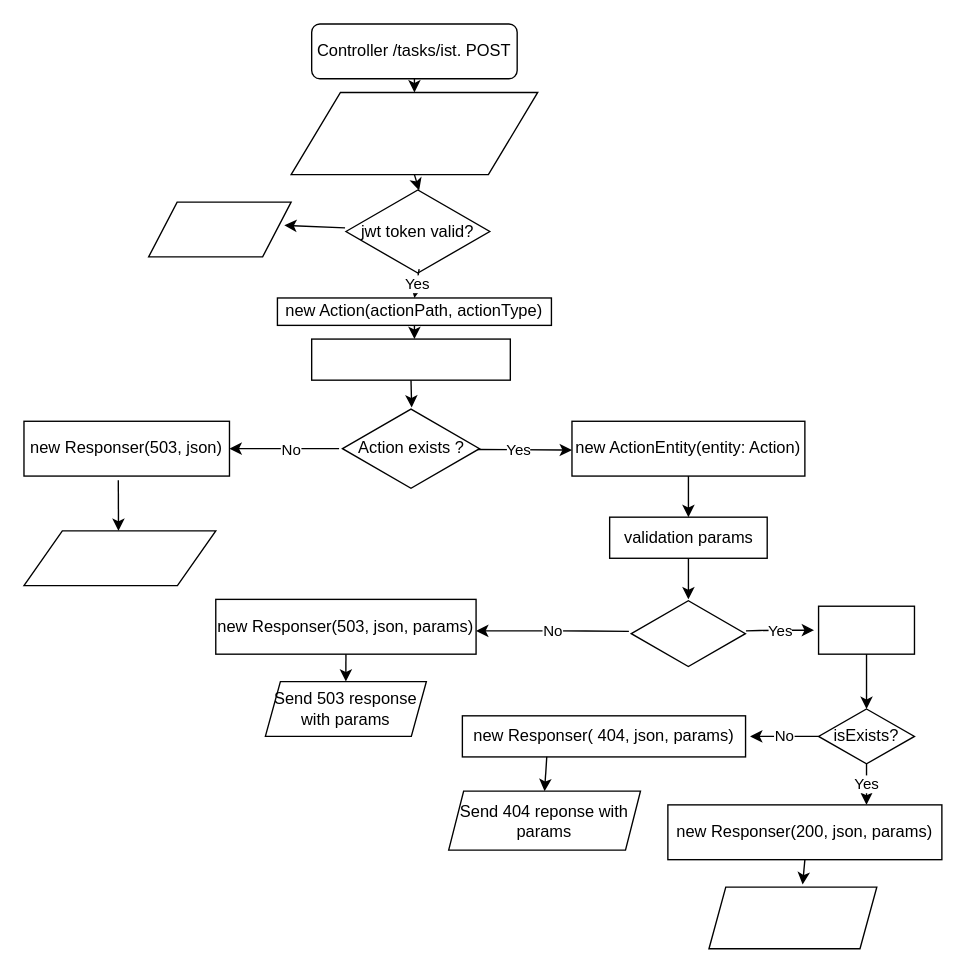
This 966x973 diagram has some shape labels left out. Each missing label, with the box of its shape:
(body) ActionPath: string ActionType: string params: object: (290, 91, 538, 175)
getActionData(params): (310, 338, 510, 380)
isValid ?: (630, 598, 745, 668)
query to mongodb: (817, 605, 914, 654)
Send 200 response with params: (708, 886, 877, 949)
Send 401 response: (147, 201, 291, 257)
Send 503 response: (23, 530, 216, 586)
